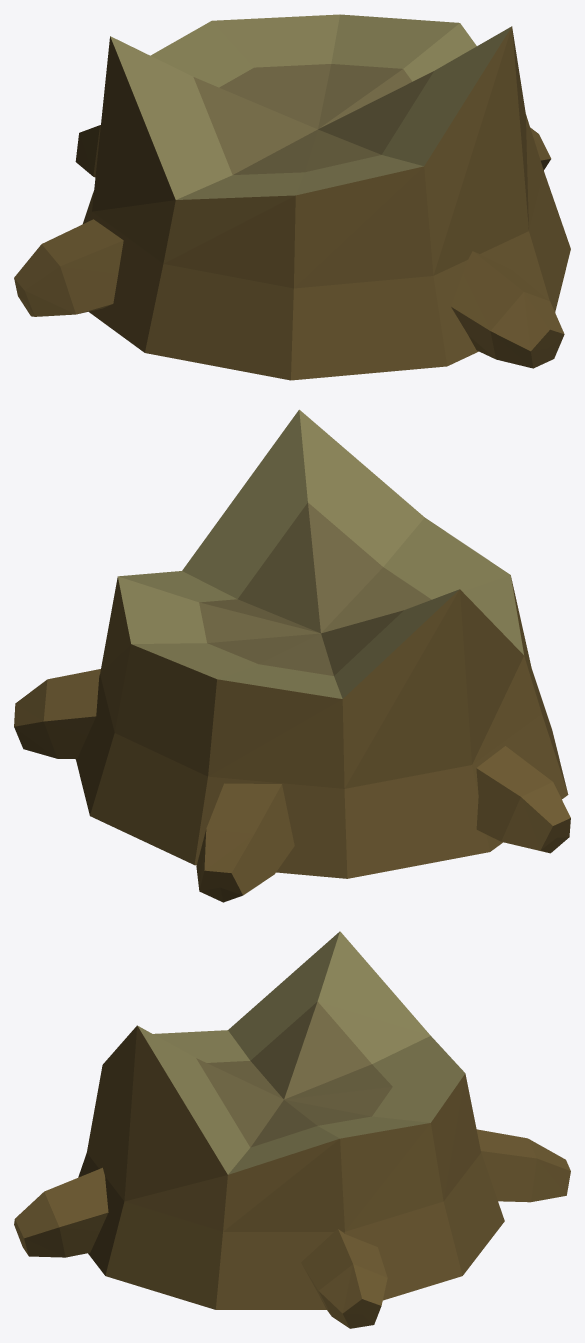
The model's file is stump_smashed_archean.obj.
3 renders of one model, top to bottom at view 1: azimuth 30°, elevation 25°; view 2: azimuth 150°, elevation 25°; view 3: azimuth 270°, elevation 25°, orthographic. The views are drawn at different scales.
Parts seen in each view (by area): view 1: stump_smashed_archean; view 2: stump_smashed_archean; view 3: stump_smashed_archean.
Boxes of the visible parts, bbox=[...] form: stump_smashed_archean: bbox=[14, 14, 570, 380]; stump_smashed_archean: bbox=[14, 409, 570, 902]; stump_smashed_archean: bbox=[14, 931, 570, 1328].
Bounding box in the file's own units: 0.6778 × 0.337 × 0.7061.
